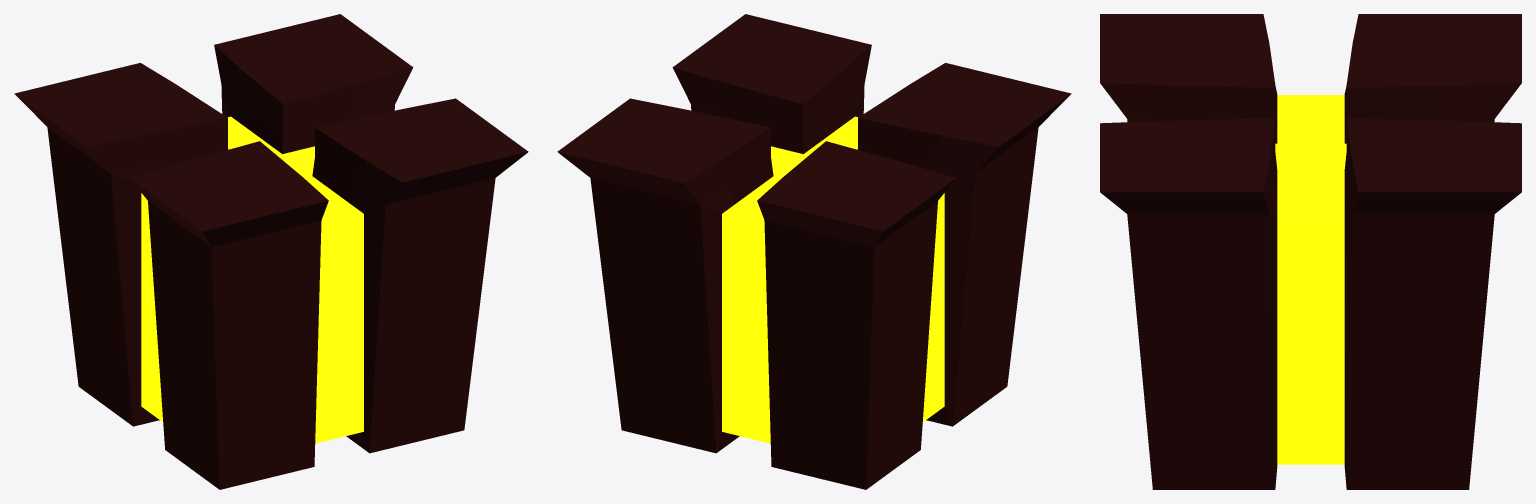
3 views of the same model, side by side, from view 1: azimuth 30°, elevation 25°; view 2: azimuth 150°, elevation 25°; view 3: azimuth 270°, elevation 25° (orthographic). The views are drawn at different scales.
Parts seen in each view (by area): view 1: Cube; view 2: Cube; view 3: Cube.
Part boxes in pixels (x1=…): Cube: x1=14, y1=14, x2=528, y2=489; Cube: x1=557, y1=14, x2=1071, y2=489; Cube: x1=1100, y1=14, x2=1521, y2=489.
Size of the model in its own units: 267 by 223 by 267.
